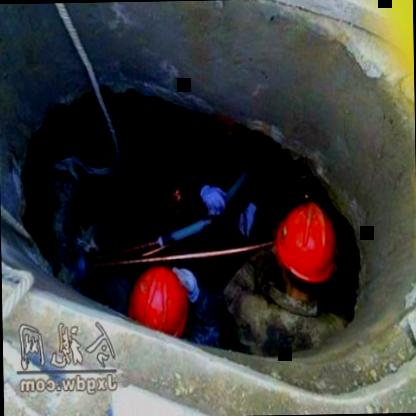helmet: (266, 202, 338, 301), (120, 262, 201, 346)
